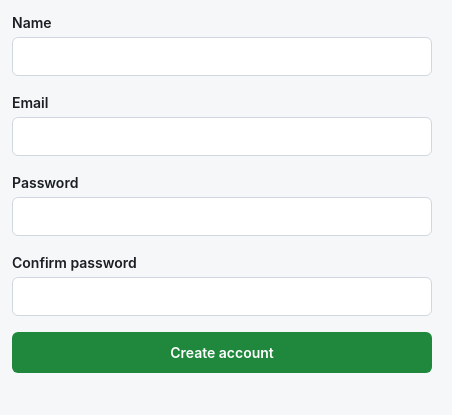
Test case: shows a linked error on blur and clears it once fixed
Click the field labelled "Name" at (222, 56), box [12,37,432,76]
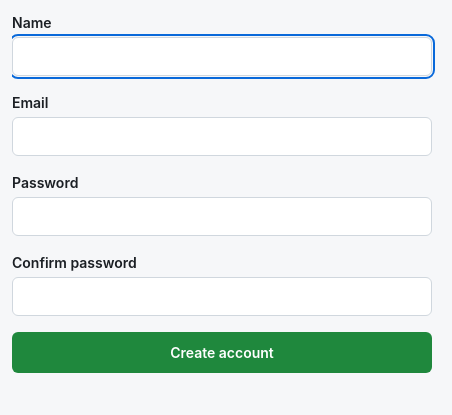
Press Tab
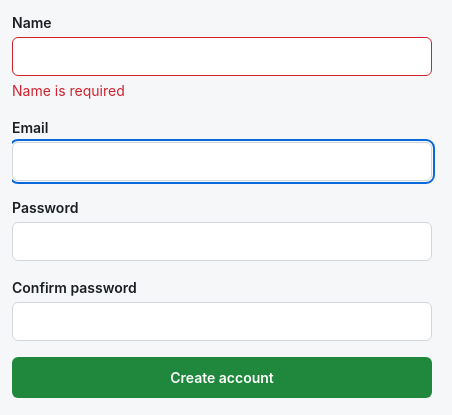
Expected: the text "Name is required" is shown, [12,82,125,99]
Type "Ada" into the field labelled "Name" at (222, 56), box [12,37,432,76]
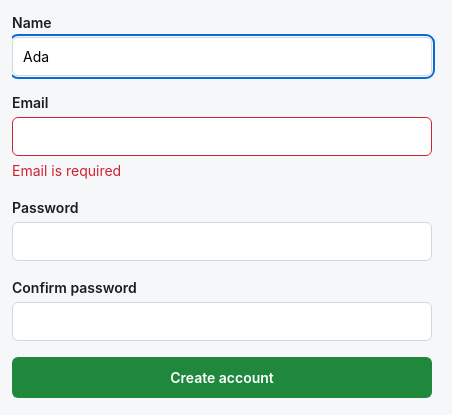
Expected: the text "Name is required" is gone
